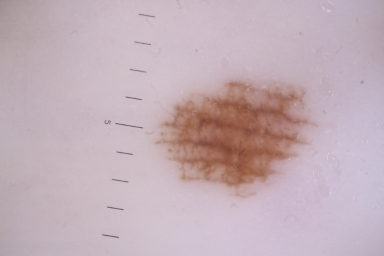nevus: (161, 78, 310, 194)
